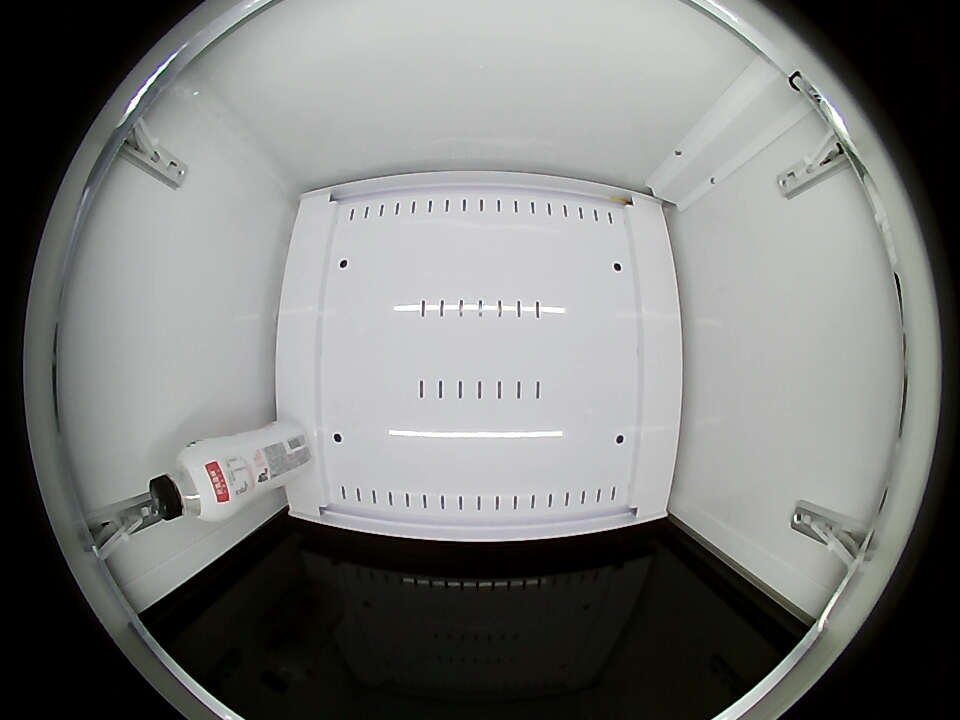yuanqishui: (149, 441, 233, 522)
